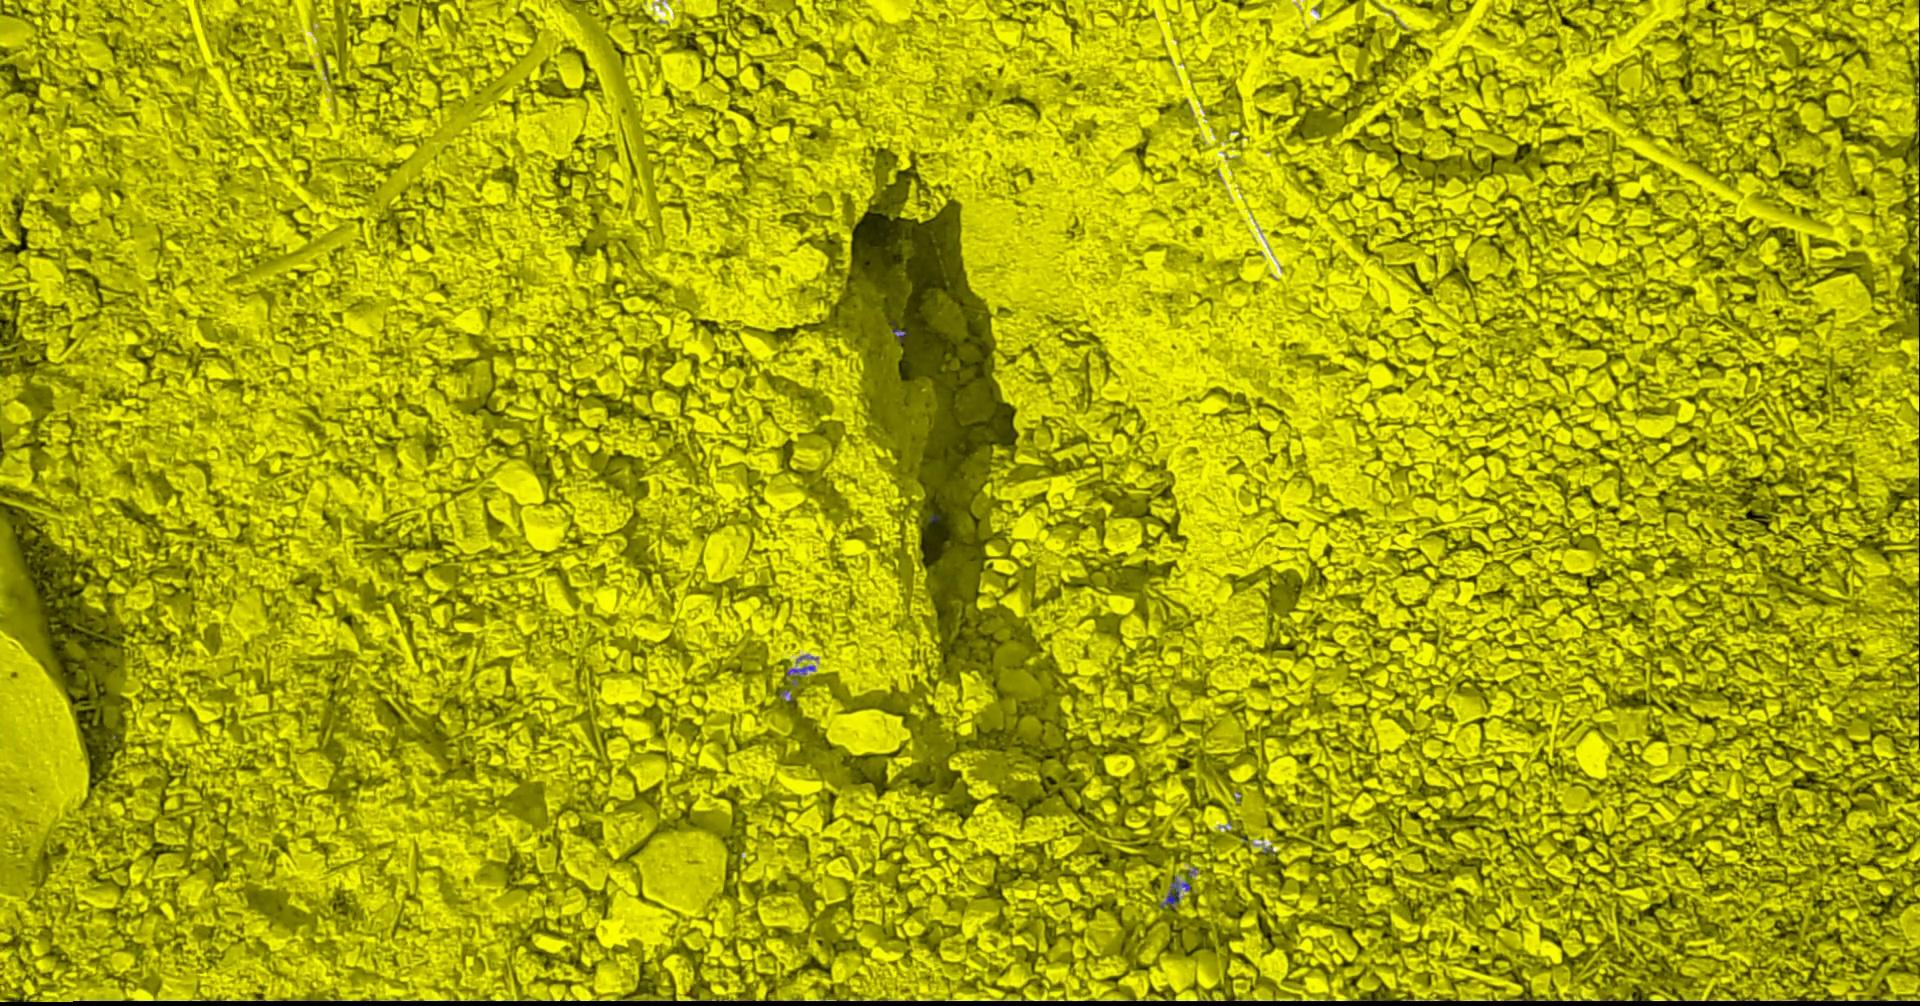ant: (1159, 878, 1190, 909), (891, 321, 908, 340), (786, 666, 814, 674)
